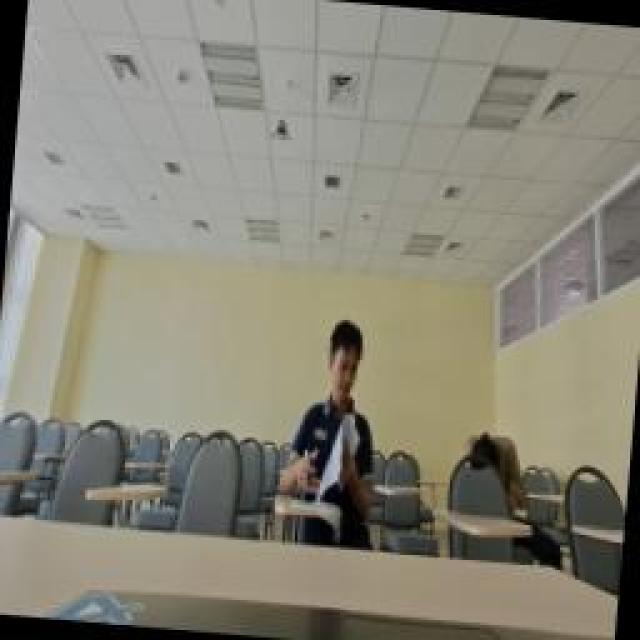sleep: (455, 422, 540, 532)
study: (268, 308, 390, 550)
